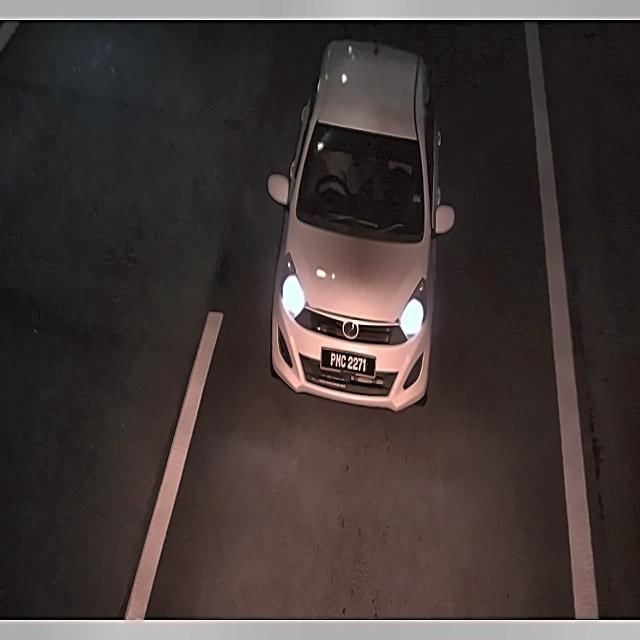car: (318, 342, 382, 382)
